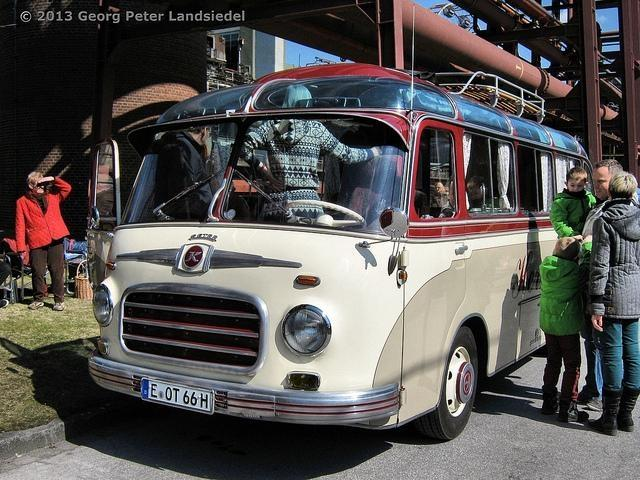bus: (78, 62, 594, 430)
